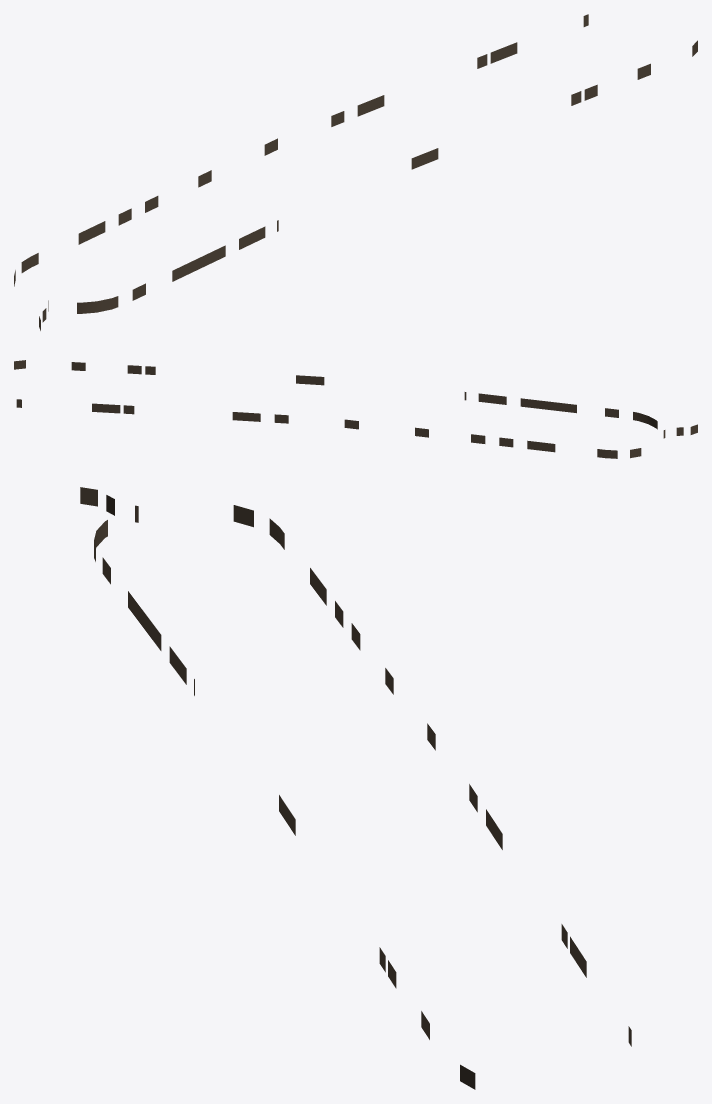
3 views of the same model, one above another, from view 1: azimuth 30°, elevation 25°; view 2: azimuth 150°, elevation 25°; view 3: azimuth 270°, elevation 25° (orthographic). The views are drawn at different scales.
Parts seen in each view (by area): view 1: prototype; view 2: prototype; view 3: prototype.
Boxes of the visible parts, <box> form: prototype: <box>14,14,697,330</box>; prototype: <box>14,360,697,458</box>; prototype: <box>80,487,631,1089</box>.
Bounding box in the file's own units: 23.45 × 0.8142 × 9.57.
